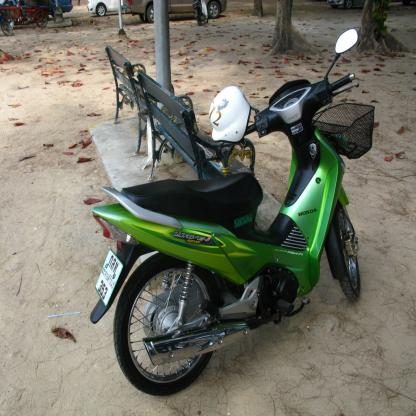Car: (121, 1, 230, 23), (1, 1, 71, 20), (88, 1, 123, 17)
